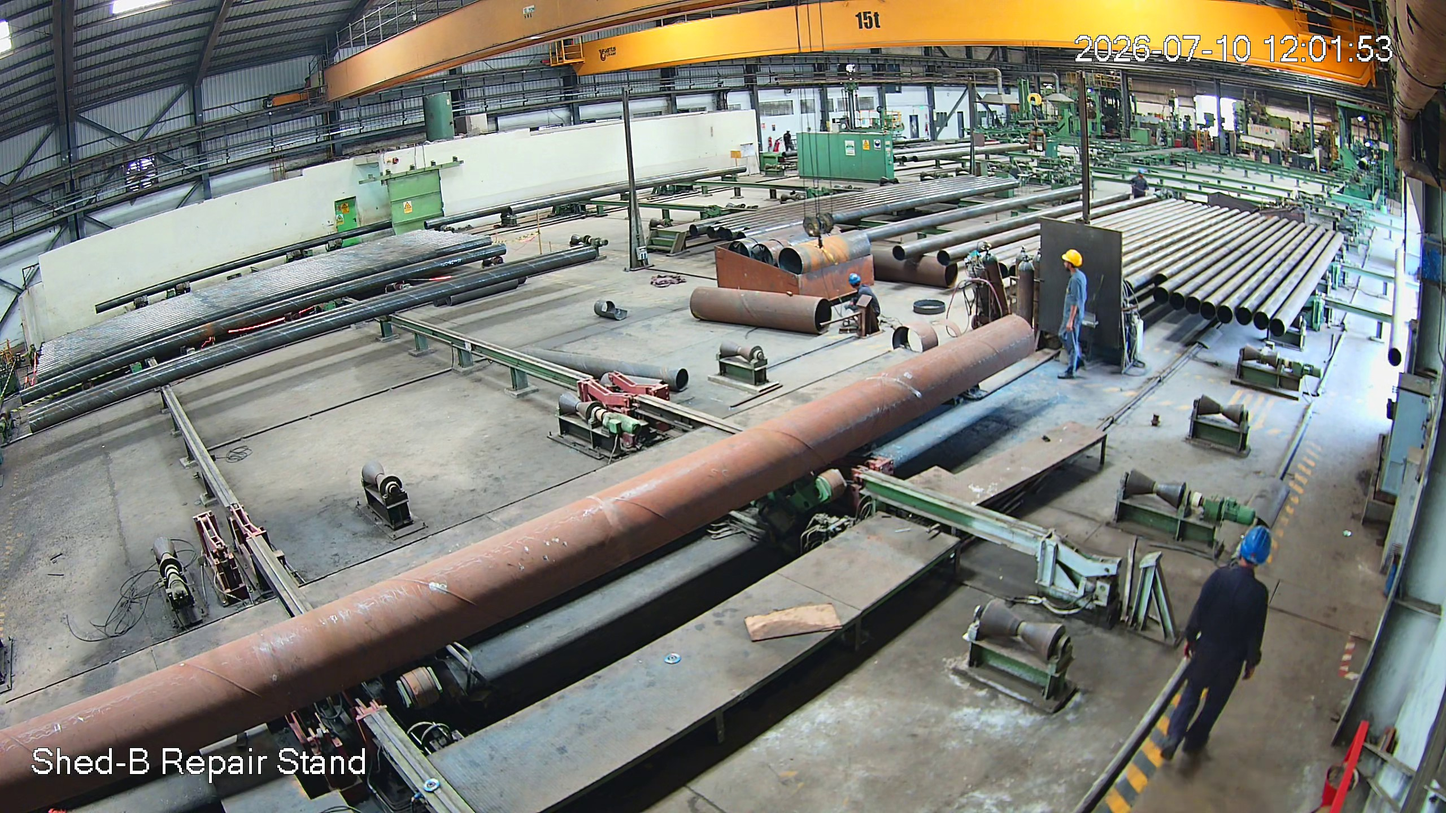Helmet: (1233, 522, 1280, 580), (1059, 247, 1085, 274), (846, 270, 862, 291)
Person: (1217, 517, 1311, 764), (1057, 248, 1091, 379), (841, 273, 882, 336)
